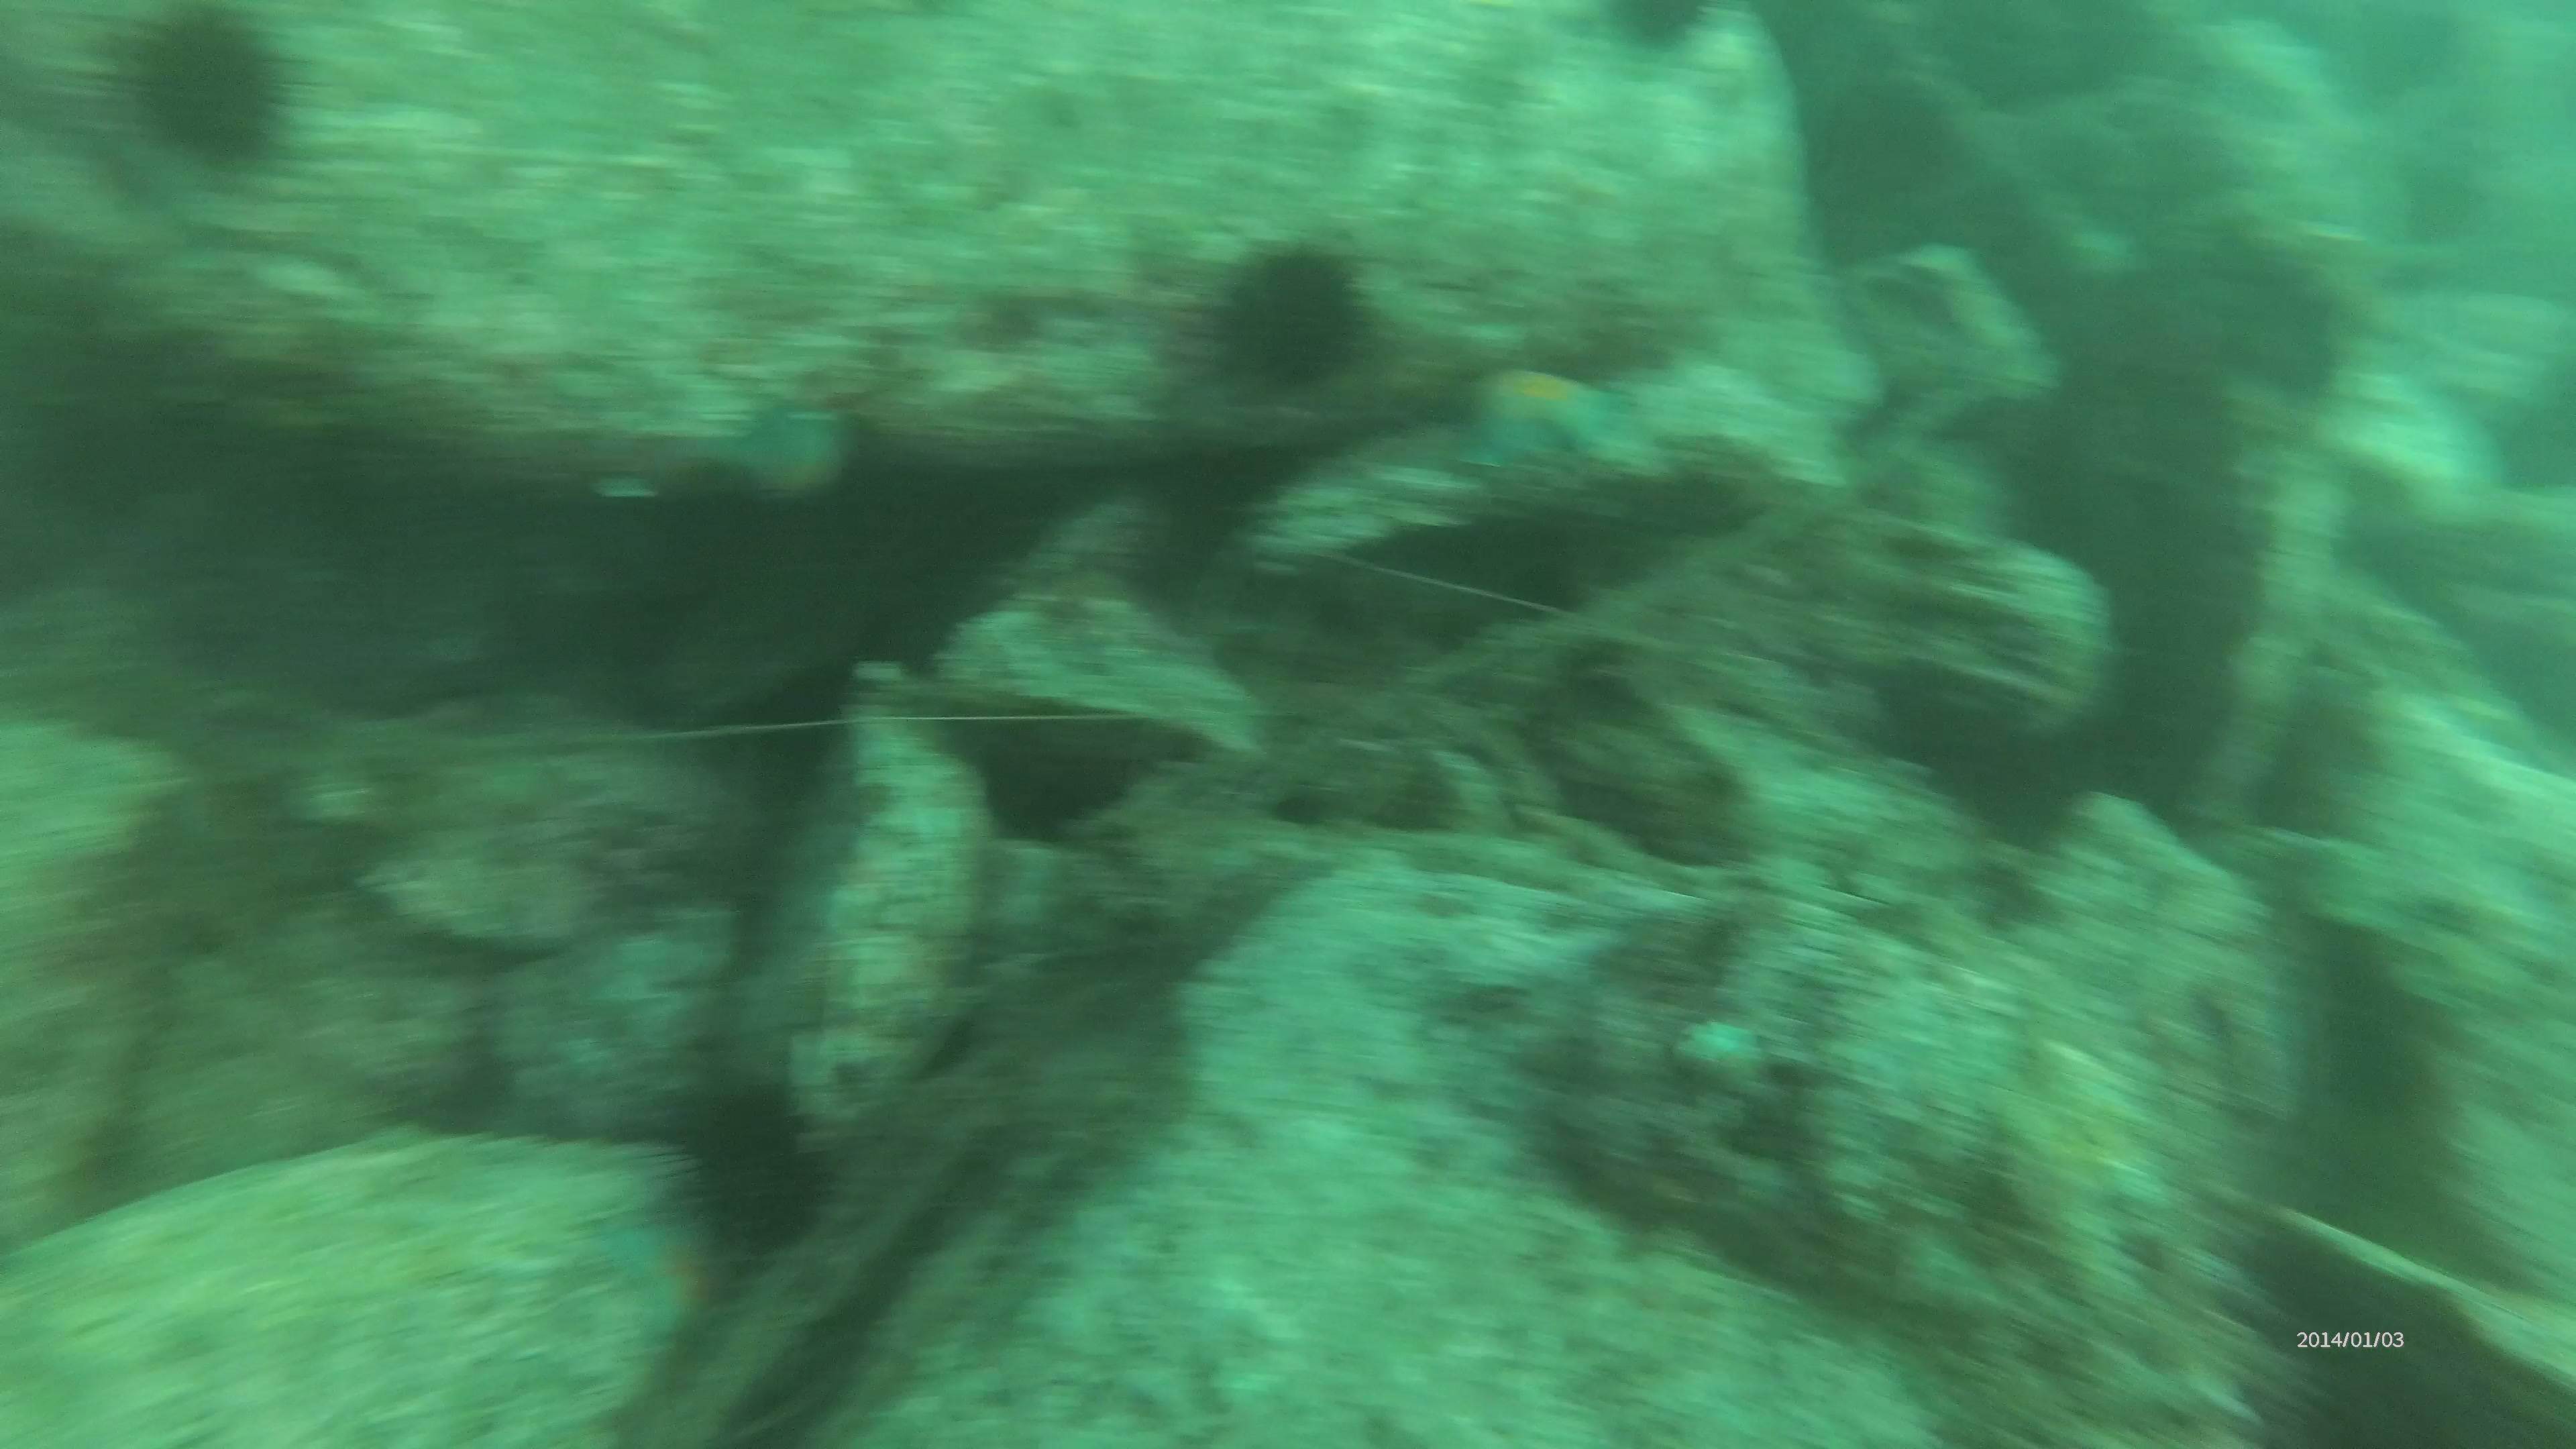echinus: (1171, 214, 1410, 421), (101, 5, 347, 189), (1585, 0, 1729, 74)
starfish: (1444, 345, 1628, 467), (706, 405, 867, 506)
